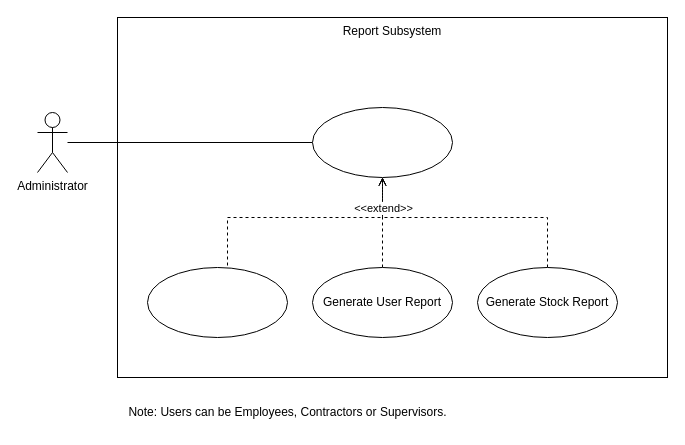
The diagram is 685 pixels wide and 445 high, and some of its shapes have lost their labels. Each missing label, with the centre of its shape:
Generate Report: pixel 382 142
Generate Task Report: pixel 217 302
